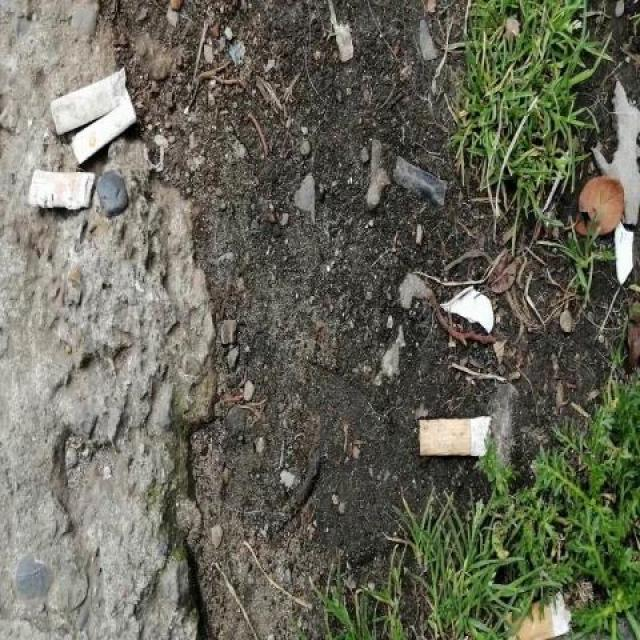non-organic waste: (47, 63, 129, 138), (69, 93, 138, 167), (415, 410, 496, 461), (23, 170, 102, 211)
